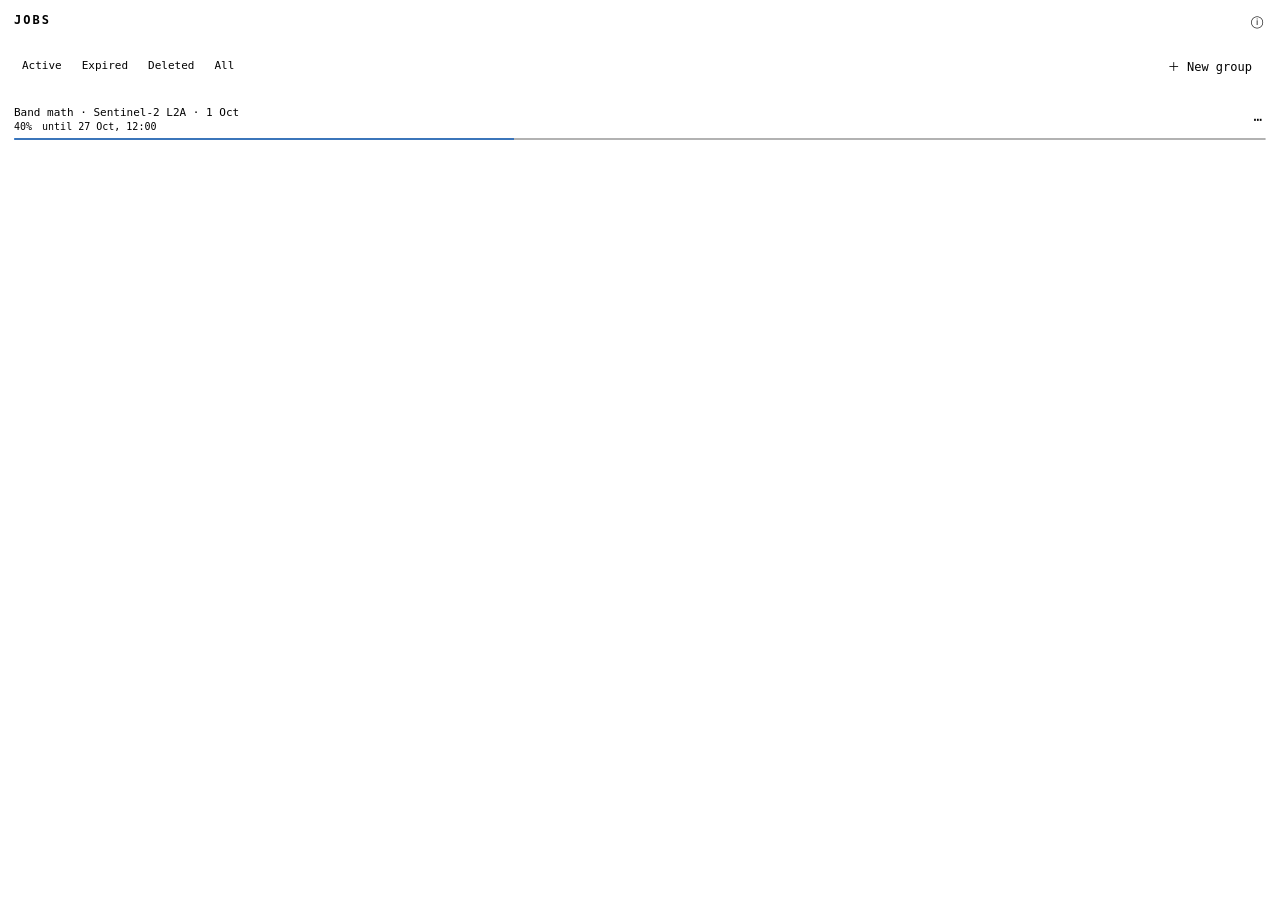
Test: the menu of a row › closes with a click beside it
Click the button "⋯" at (1258, 119), box top-left (1246, 107), bottom-right (1270, 131)
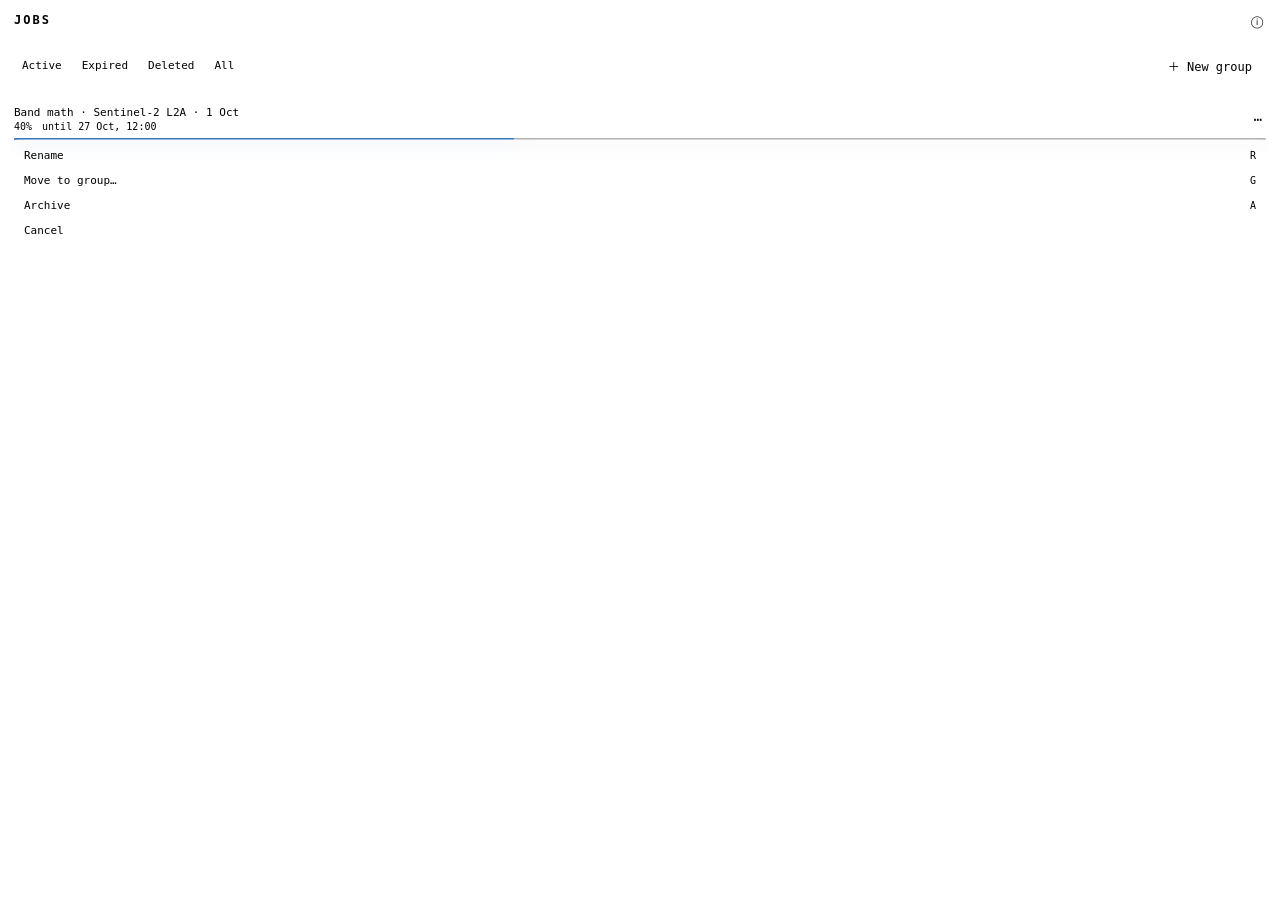
Press the mouse on the element that starts with "Jobs" at (640, 450), box top-left (0, 0), bottom-right (1279, 899)
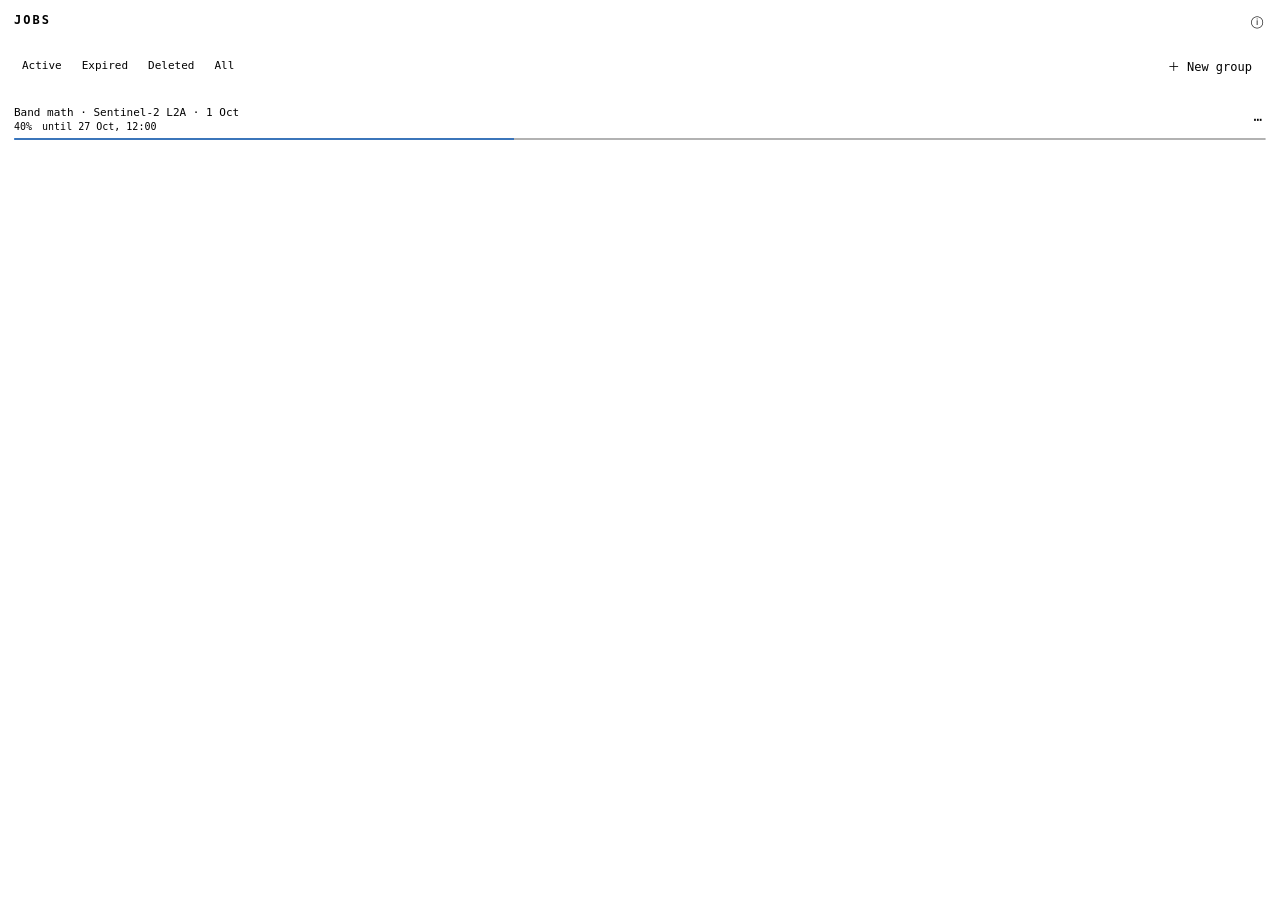
expect the menu is gone: met
